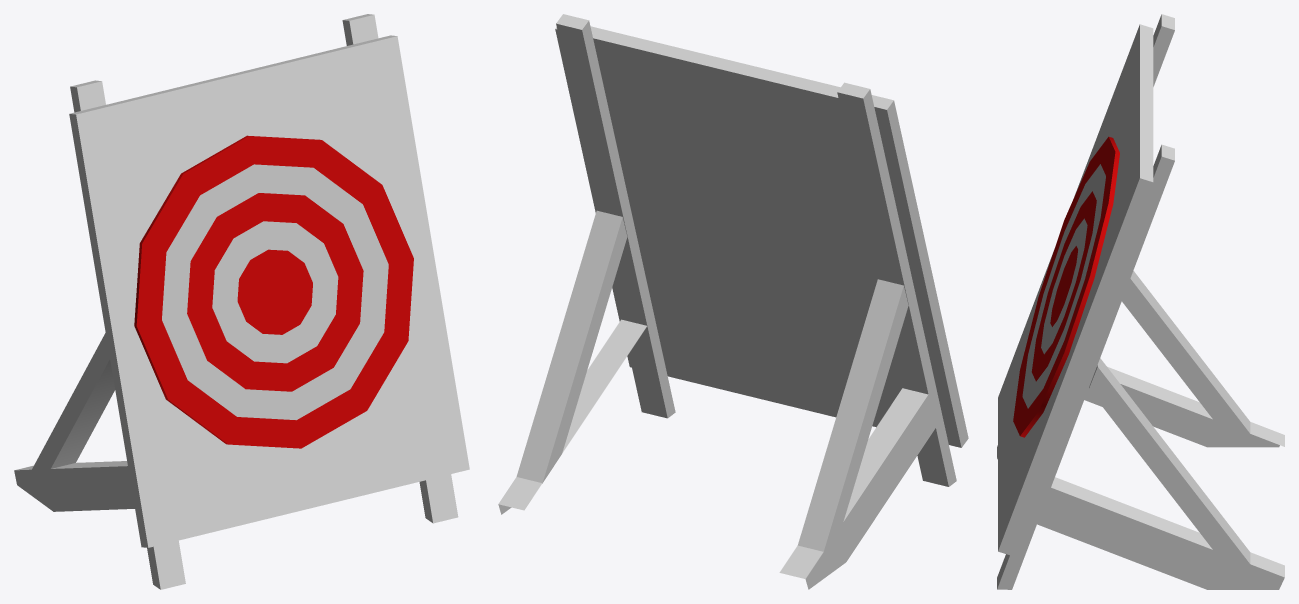
File: arrow_stand.fbx
3 views of the same model, side by side, from view 1: azimuth 30°, elevation 25°; view 2: azimuth 150°, elevation 25°; view 3: azimuth 270°, elevation 25° (orthographic). The views are drawn at different scales.
Visible parts, largest first — view 1: Cube_2, Tube_3, Tube, Tube_1, Tube_2, TARGET, Cube_1_2, Cube_2_2, Cube_1; view 2: Cube_2, Cube_2_2, Cube_1, Cube_1_2; view 3: Cube_2, Cube_1_2, Cube_1, Cube_2_2, Tube_3, Tube, Tube_1, Tube_2, TARGET.
Part boxes in pixels (x1=…): Cube_2: x1=69, y1=35, x2=469, y2=547; Tube_3: x1=134, y1=135, x2=413, y2=448; Tube: x1=162, y1=164, x2=388, y2=420; Tube_1: x1=187, y1=193, x2=363, y2=391; Tube_2: x1=212, y1=221, x2=338, y2=363; TARGET: x1=237, y1=249, x2=312, y2=334; Cube_1_2: x1=14, y1=461, x2=134, y2=511; Cube_2_2: x1=70, y1=14, x2=458, y2=589; Cube_1: x1=32, y1=333, x2=115, y2=469; Cube_2: x1=555, y1=26, x2=968, y2=447; Cube_2_2: x1=556, y1=14, x2=956, y2=486; Cube_1: x1=516, y1=210, x2=908, y2=551; Cube_1_2: x1=498, y1=319, x2=935, y2=589; Cube_2: x1=998, y1=24, x2=1153, y2=555; Cube_1_2: x1=1037, y1=366, x2=1284, y2=589; Cube_1: x1=1089, y1=271, x2=1250, y2=564; Cube_2_2: x1=997, y1=14, x2=1174, y2=589; Tube_3: x1=1013, y1=136, x2=1119, y2=437; Tube: x1=1022, y1=164, x2=1105, y2=408; Tube_1: x1=1031, y1=191, x2=1096, y2=381; Tube_2: x1=1041, y1=218, x2=1087, y2=354; TARGET: x1=1050, y1=246, x2=1077, y2=326.
Size of the model in its own units: 51 by 66.94 by 40.29.
